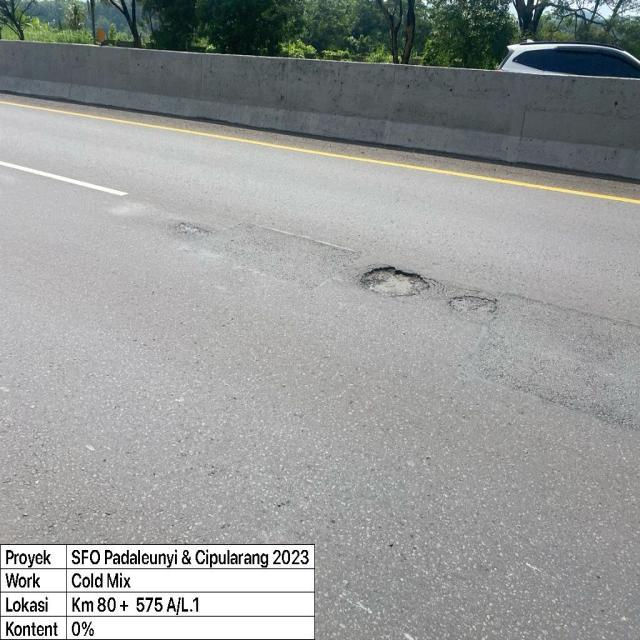Buraco: (357, 264, 433, 300), (446, 292, 500, 326)
